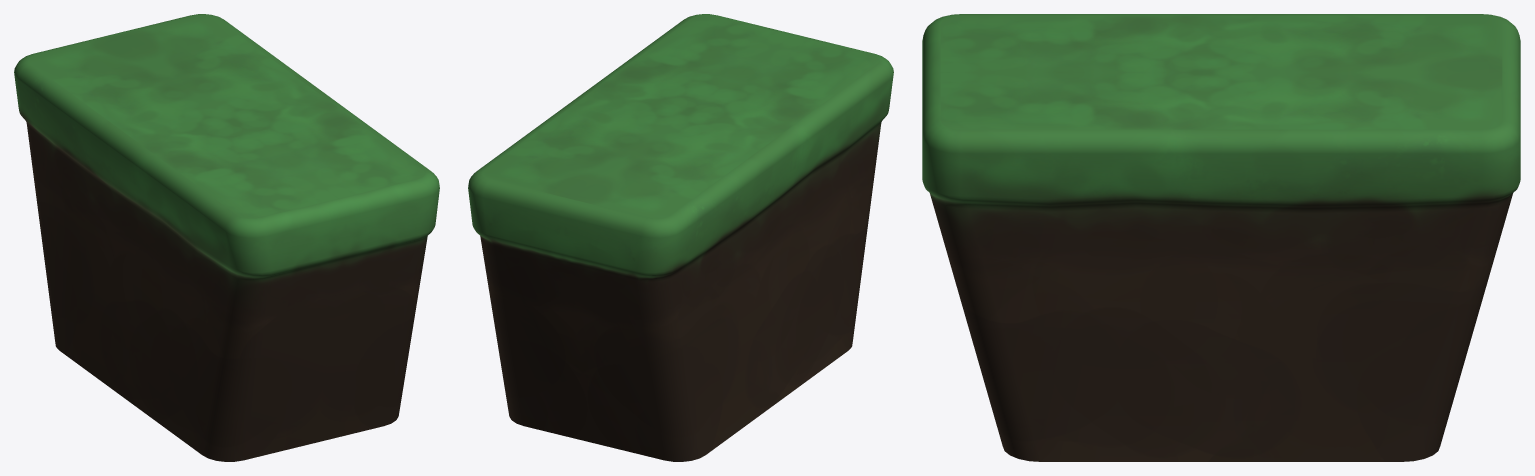
The model's file is terrain_small_1.fbx.
3 views of the same model, side by side, from view 1: azimuth 30°, elevation 25°; view 2: azimuth 150°, elevation 25°; view 3: azimuth 270°, elevation 25° (orthographic). The views are drawn at different scales.
Parts seen in each view (by area): view 1: terrain_small_1; view 2: terrain_small_1; view 3: terrain_small_1.
Part boxes in pixels (box(x1,y1,x2,y2)): terrain_small_1: box(14, 14, 439, 461); terrain_small_1: box(468, 14, 893, 461); terrain_small_1: box(922, 14, 1520, 461).
Bounding box in the file's own units: 420 × 500 × 820.
